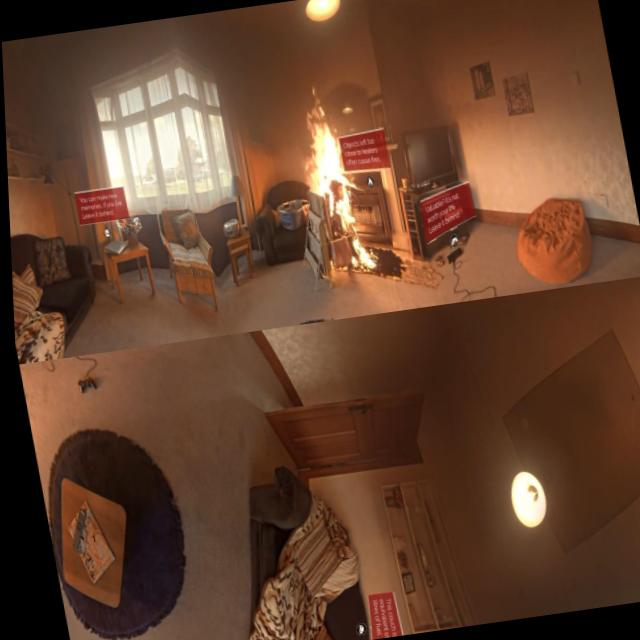fire: (290, 78, 378, 278)
